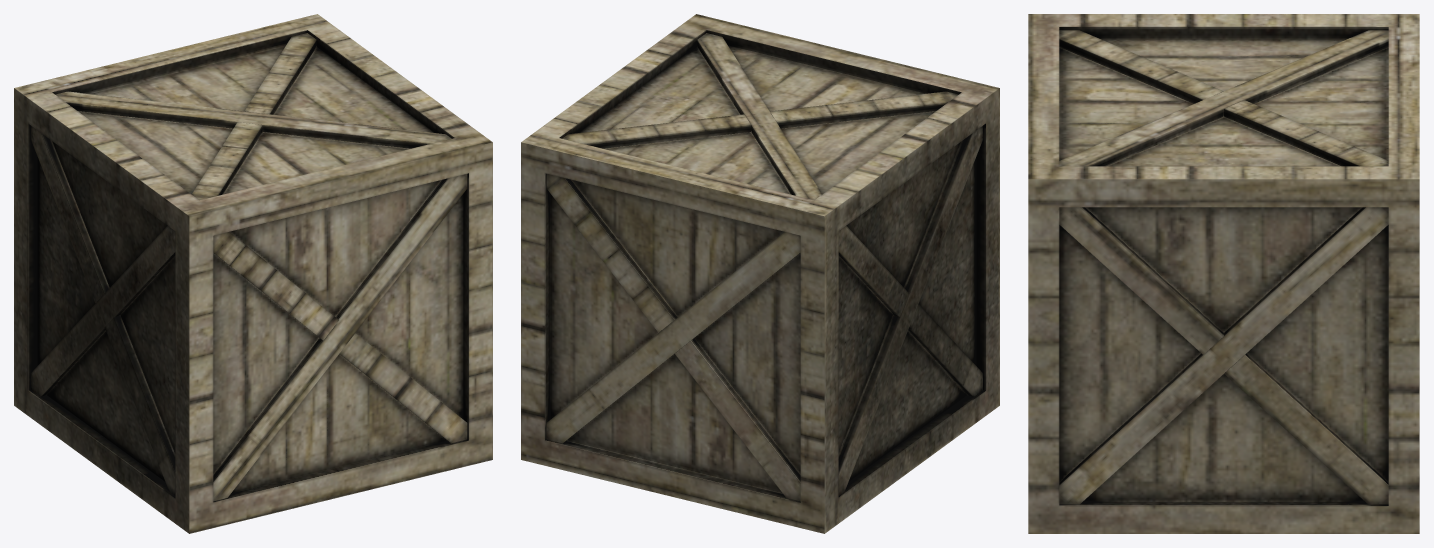
The model's file is Crate_01.FBX.
3 renders of one model, left to right at view 1: azimuth 30°, elevation 25°; view 2: azimuth 150°, elevation 25°; view 3: azimuth 270°, elevation 25°, orthographic. The views are drawn at different scales.
Visible parts, largest first — view 1: C_01_Unbroken, C_01_Frag08, C_01_Frag05, C_01_Frag06, C_01_Frag09, C_01_Frag07, C_01_Frag02, C_01_Frag04, C_01_Frag03; view 2: C_01_Unbroken, C_01_Frag02, C_01_Frag01, C_01_Frag08, C_01_Frag09, C_01_Frag07, C_01_Frag06, C_01_Frag04; view 3: C_01_Unbroken, C_01_Frag04, C_01_Frag09, C_01_Frag03, C_01_Frag08, C_01_Frag06, C_01_Frag01.
Part boxes in pixels (x1,y1,x2,y2): C_01_Unbroken: (14,14,492,533); C_01_Frag08: (14,45,285,374); C_01_Frag05: (189,149,492,533); C_01_Frag06: (176,138,453,480); C_01_Frag09: (132,33,448,230); C_01_Frag07: (15,325,188,532); C_01_Frag02: (14,88,27,405); C_01_Frag04: (307,30,454,138); C_01_Frag03: (463,191,466,420); C_01_Unbroken: (522,14,999,530); C_01_Frag02: (521,216,838,533); C_01_Frag01: (521,134,824,459); C_01_Frag08: (605,125,982,453); C_01_Frag09: (565,31,984,173); C_01_Frag07: (825,250,993,533); C_01_Frag06: (707,28,999,93); C_01_Frag04: (559,38,695,138); C_01_Unbroken: (1028,14,1419,533); C_01_Frag04: (1028,179,1388,504); C_01_Frag09: (1059,14,1337,166); C_01_Frag03: (1028,220,1418,533); C_01_Frag08: (1154,14,1415,159); C_01_Frag06: (1028,14,1061,163); C_01_Frag01: (1372,21,1419,179).
Size of the model in its own units: 75.55 by 75.55 by 75.55.
